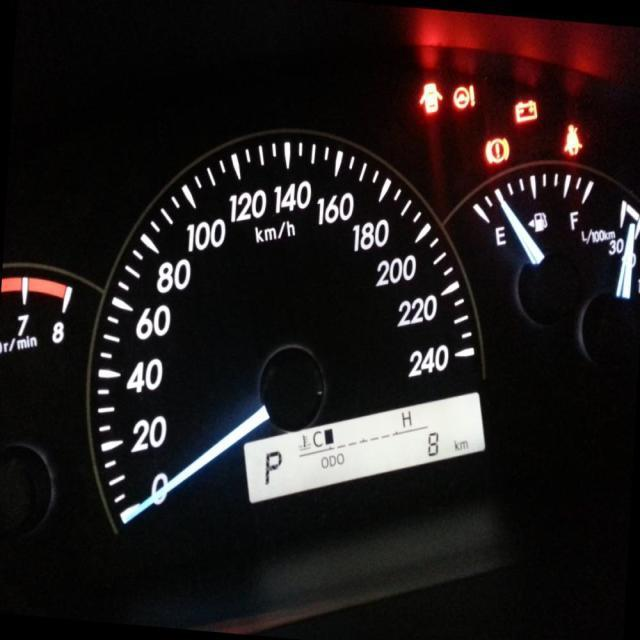Electronic Power Steering: (452, 85, 477, 112)
Seat Belt: (564, 122, 582, 156)
